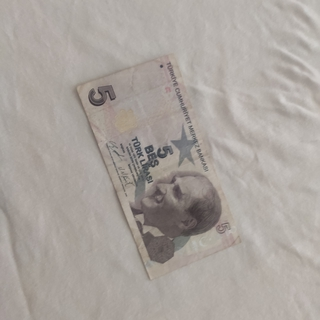5TLFront: (76, 53, 241, 280)
